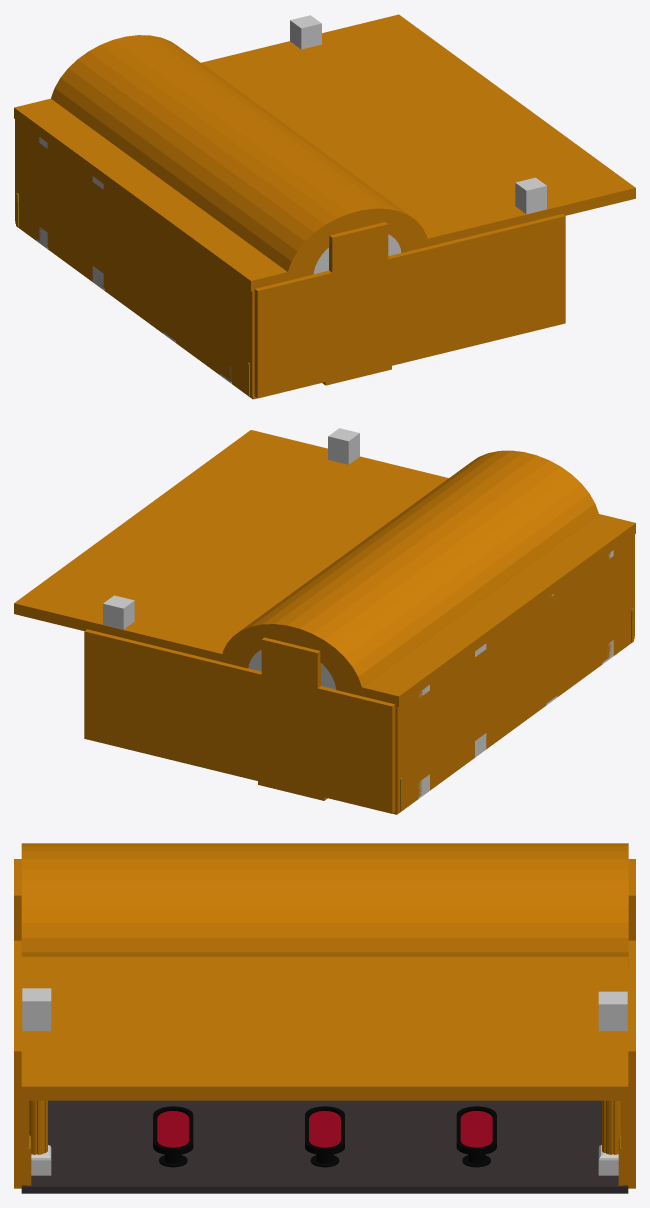
The model's file is sala_renovada.fbx.
3 renders of one model, top to bottom at view 1: azimuth 30°, elevation 25°; view 2: azimuth 150°, elevation 25°; view 3: azimuth 270°, elevation 25°, orthographic. The views are drawn at different scales.
Visible parts, largest first — view 1: sala; view 2: sala; view 3: sala.
Part boxes in pixels (x1,y1,x2,y2): sala: (14,14,635,399); sala: (14,428,635,814); sala: (14,843,635,1193).
Size of the model in its own units: 7503 by 3074 by 8200.
